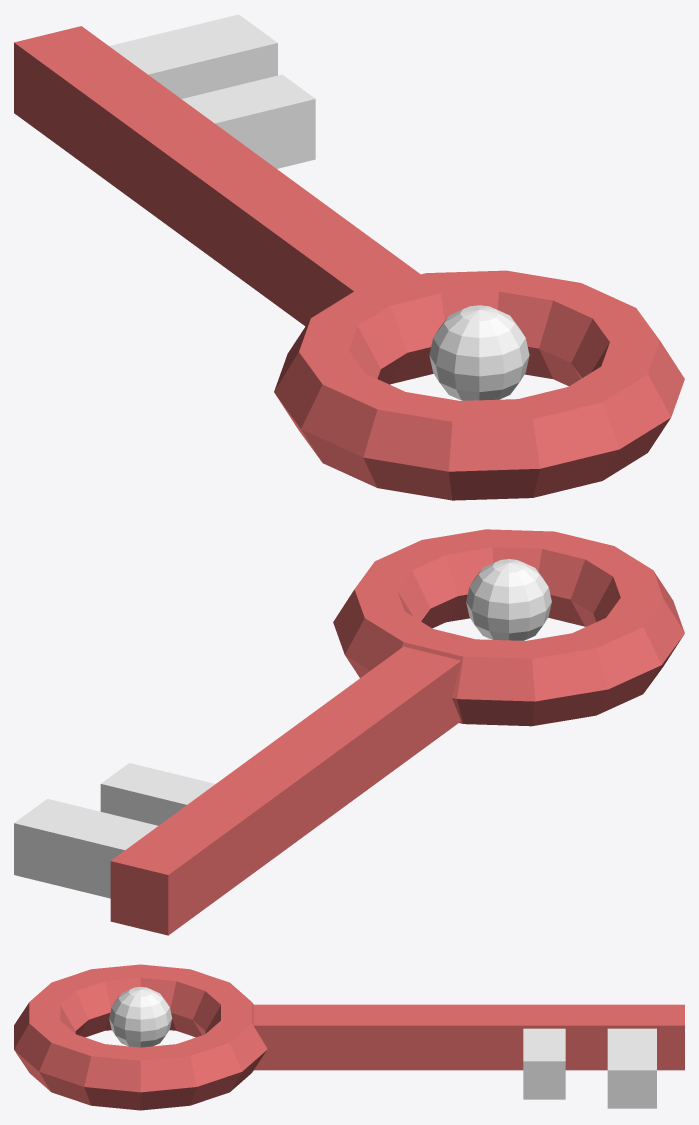
Rendered from pista_held.gltf.
3 renders of one model, top to bottom at view 1: azimuth 30°, elevation 25°; view 2: azimuth 150°, elevation 25°; view 3: azimuth 270°, elevation 25°, orthographic. The views are drawn at different scales.
Parts seen in each view (by area): view 1: keys_pista_held; view 2: keys_pista_held; view 3: keys_pista_held.
Boxes of the visible parts, x1,y1,x2,y2 form: keys_pista_held: [14, 14, 684, 500]; keys_pista_held: [14, 529, 684, 935]; keys_pista_held: [14, 964, 684, 1110].
Bounding box in the file's own units: 0.074 × 0.0228 × 0.1911.
